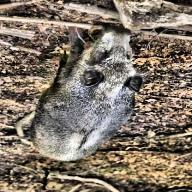boar: (21, 9, 146, 162)
